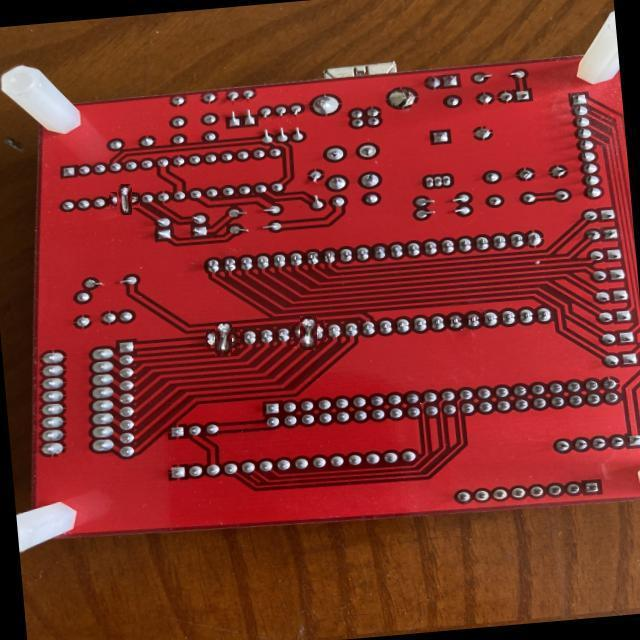damged: (210, 326, 237, 352), (296, 320, 322, 346), (113, 188, 136, 212)
